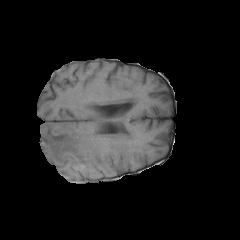glioma: (40, 97, 136, 174)
